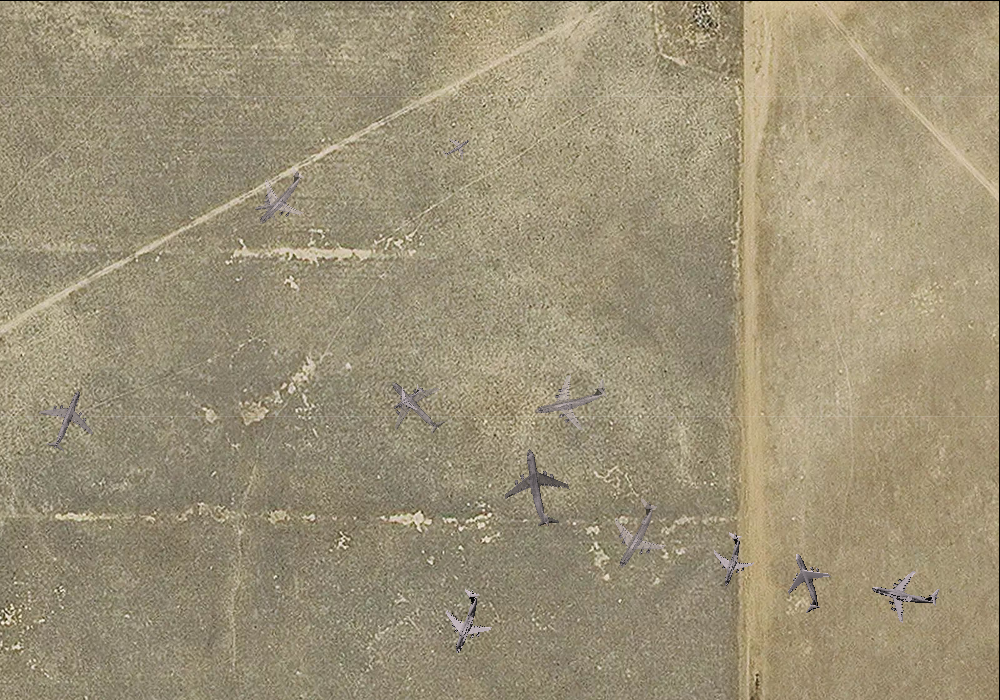plane: (588, 486, 683, 583), (369, 359, 462, 452), (235, 152, 324, 241), (495, 443, 581, 533), (527, 359, 615, 441), (426, 581, 504, 663), (27, 380, 105, 460), (865, 555, 946, 632), (769, 544, 842, 621), (700, 527, 762, 592), (384, 375, 430, 420), (436, 127, 476, 167), (251, 186, 290, 224)
